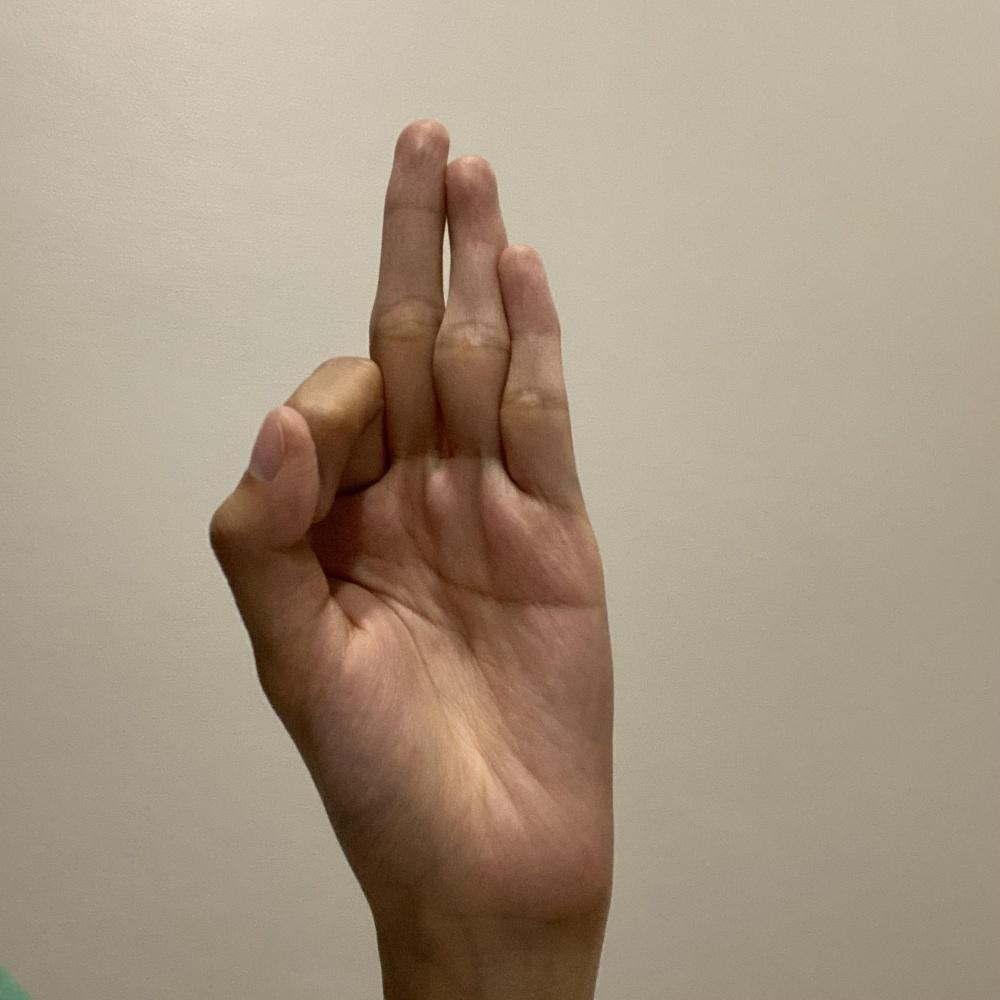f: (206, 116, 619, 945)
